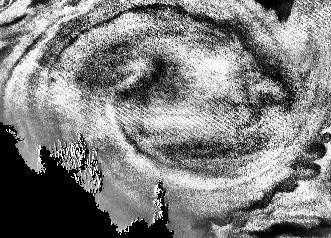AE: (26, 4, 295, 187)
